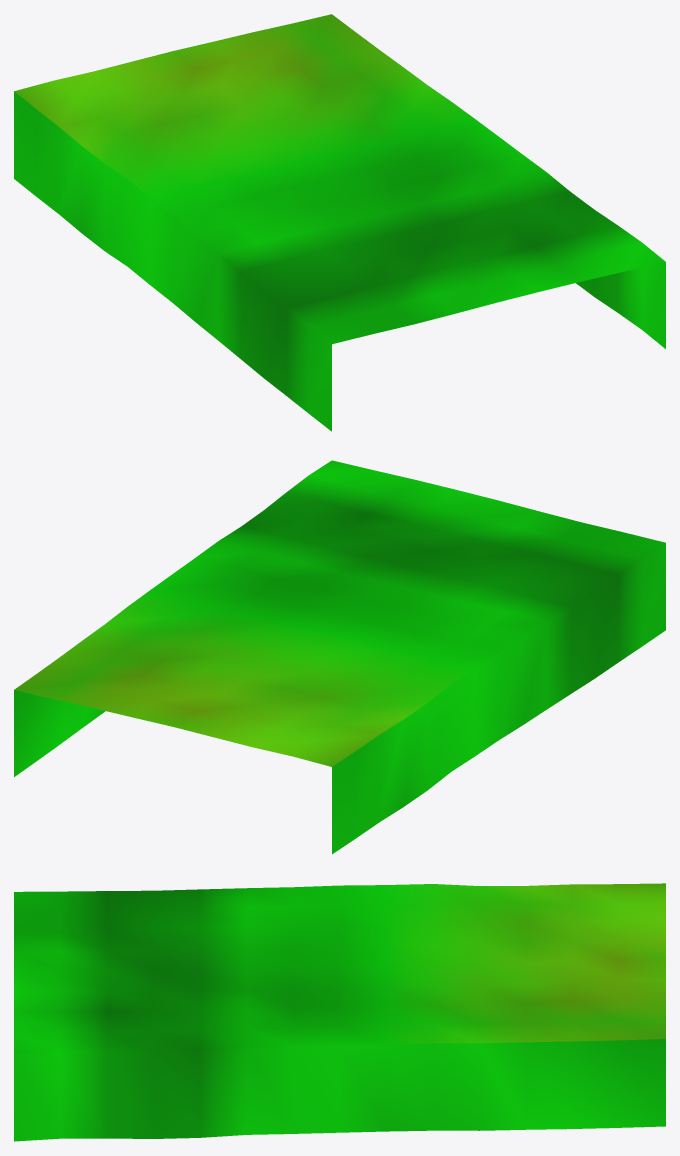
The model's file is terrace_tread_4m.glb.
The picture shows the model from 3 angles, top to bottom: view 1: azimuth 30°, elevation 25°; view 2: azimuth 150°, elevation 25°; view 3: azimuth 270°, elevation 25°; orthographic projection.
Parts seen in each view (by area): view 1: terrace_tread_4m; view 2: terrace_tread_4m; view 3: terrace_tread_4m.
Part boxes in pixels (left/top/right/bottom): terrace_tread_4m: left=14, top=14, right=665, bottom=431; terrace_tread_4m: left=14, top=460, right=665, bottom=854; terrace_tread_4m: left=14, top=883, right=665, bottom=1141.
Size of what is drawn, in the model's own units: 3.99 by 1.16 by 6.75.
